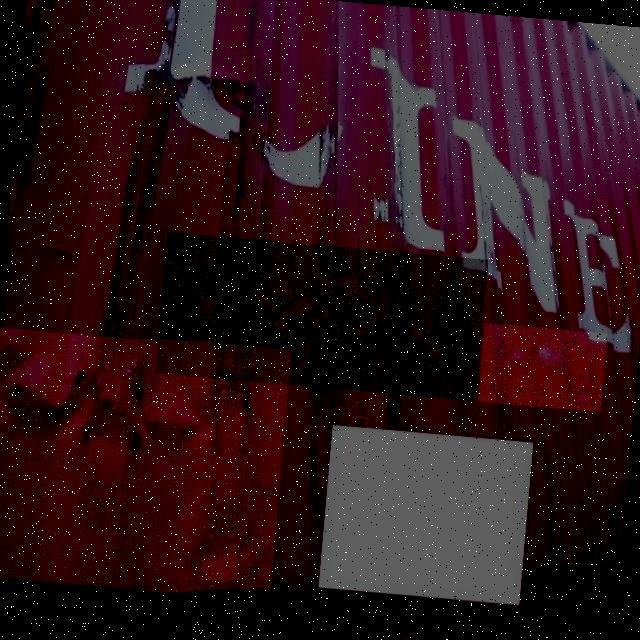Minor-Dent: (0, 327, 291, 601), (155, 232, 488, 404), (478, 323, 607, 412)
